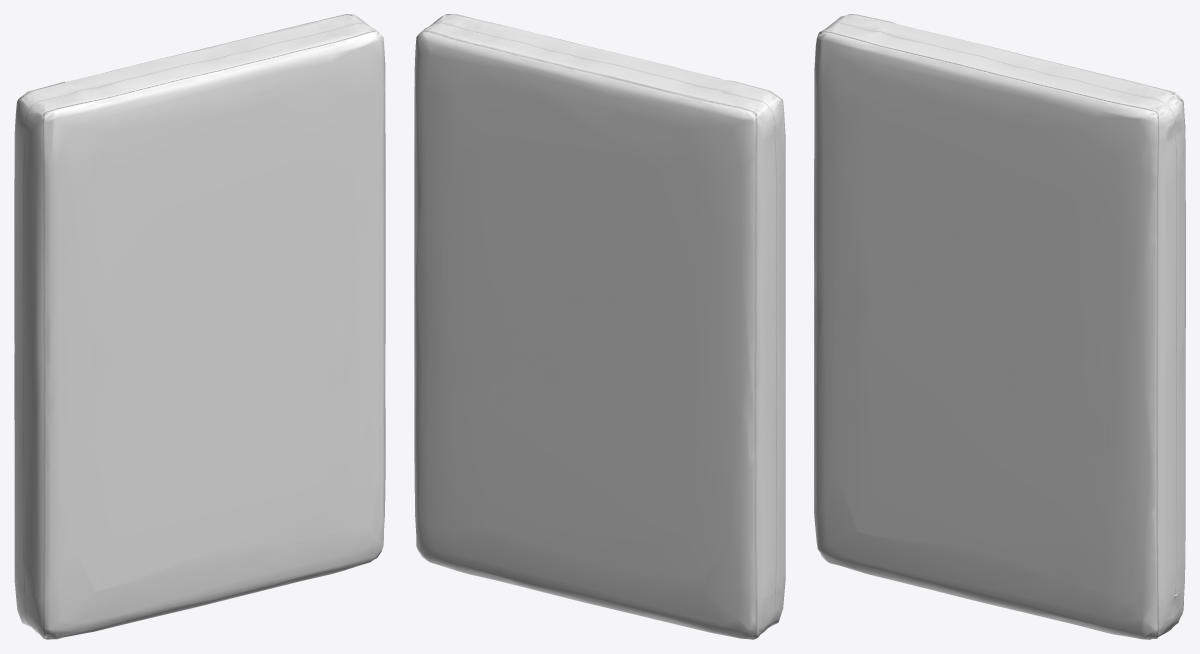
File: BedMattress_1.obj
The picture shows the model from 3 angles, left to right: view 1: azimuth 30°, elevation 25°; view 2: azimuth 150°, elevation 25°; view 3: azimuth 330°, elevation 25°; orthographic projection.
Parts seen in each view (by area): view 1: BedMattress_1; view 2: BedMattress_1; view 3: BedMattress_1.
Boxes of the visible parts, <box> form: BedMattress_1: <box>14,14,385,639</box>; BedMattress_1: <box>414,14,785,639</box>; BedMattress_1: <box>814,14,1185,639</box>.
Size of the model in its own units: 1.37 by 1.99 by 0.2539.
1 material, 1 textured.
